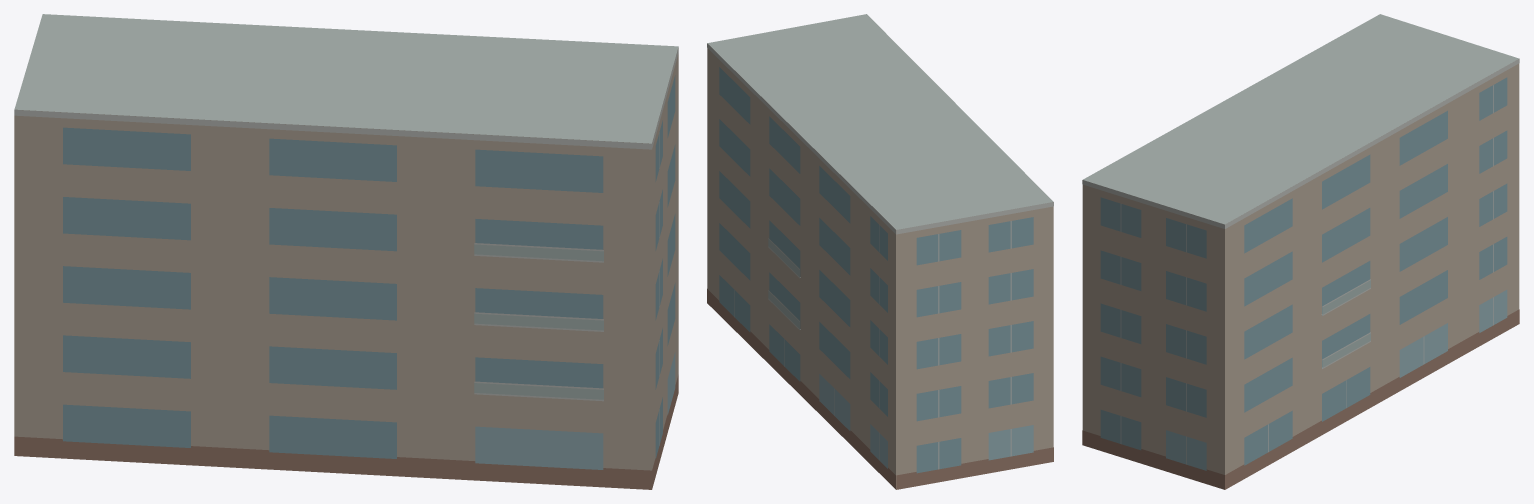
The model's file is survey-upis-32542486.glb.
3 views of the same model, side by side, from view 1: azimuth 30°, elevation 25°; view 2: azimuth 150°, elevation 25°; view 3: azimuth 270°, elevation 25° (orthographic). The views are drawn at different scales.
Visible parts, largest first — view 1: survey-upis-32542486.tmp; view 2: survey-upis-32542486.tmp; view 3: survey-upis-32542486.tmp.
Part boxes in pixels (x1,y1,x2,y2): survey-upis-32542486.tmp: (14,14,678,489); survey-upis-32542486.tmp: (707,14,1053,489); survey-upis-32542486.tmp: (1082,14,1519,489).
Bounding box in the file's own units: 23.8 × 13.98 × 20.87.
